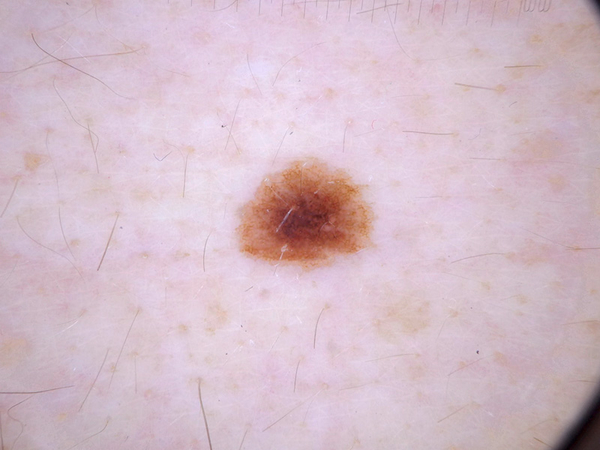Detected Lesion: (233, 153, 384, 276)
